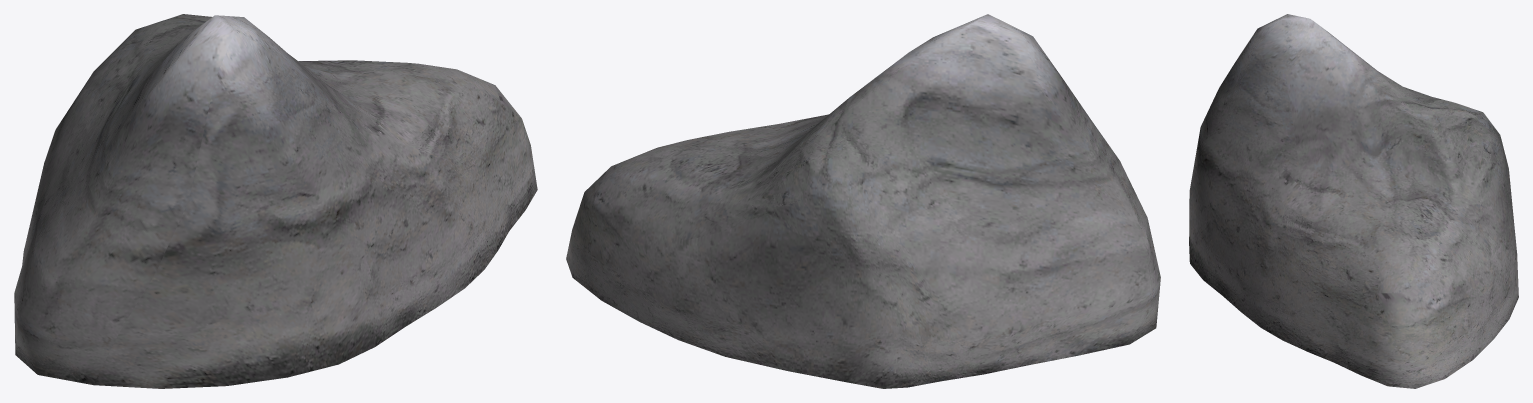
File: Stone4.gltf
3 renders of one model, left to right at view 1: azimuth 30°, elevation 25°; view 2: azimuth 150°, elevation 25°; view 3: azimuth 270°, elevation 25°, orthographic. The views are drawn at different scales.
Parts seen in each view (by area): view 1: Stone4; view 2: Stone4; view 3: Stone4.
Part boxes in pixels (left/top/right/bottom): Stone4: left=14, top=14, right=537, bottom=388; Stone4: left=566, top=14, right=1160, bottom=388; Stone4: left=1189, top=14, right=1518, bottom=388.
Size of the model in its own units: 5.42 by 2.71 by 3.54.
Materials: 1 (1 with a texture image).
